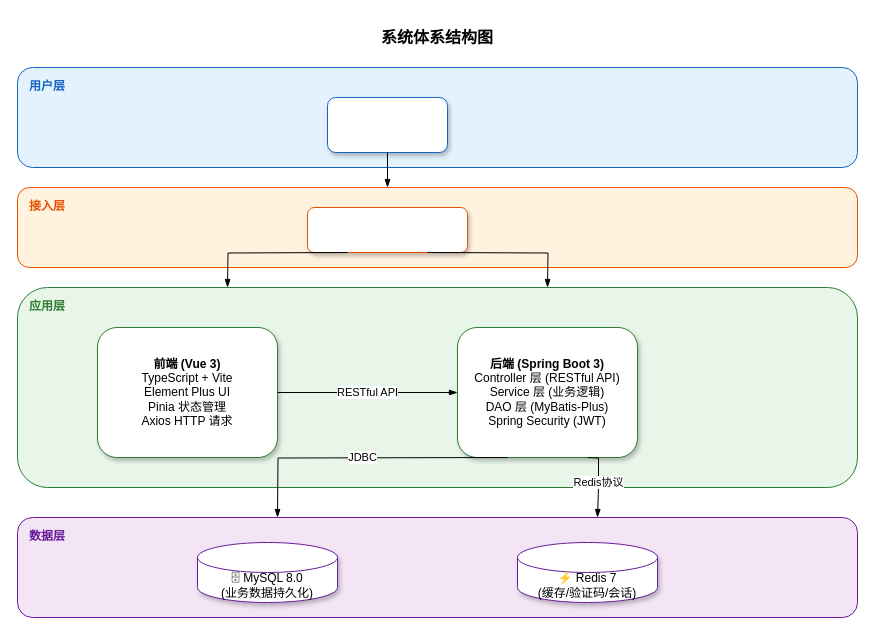
The diagram is 875 pixels wide and 635 high, and some of its shapes have lost their labels. Each missing label, with the centre of its shape:
Nginx 反向代理 (静态资源服务 + API转发): (x=388, y=231)
🌐 浏览器 (Chrome/Edge): (x=388, y=126)
